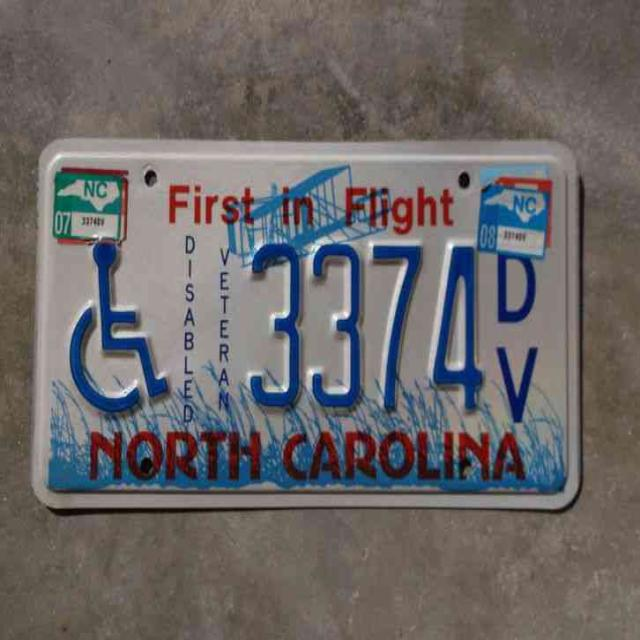symbol_of_access: (59, 234, 180, 421)
